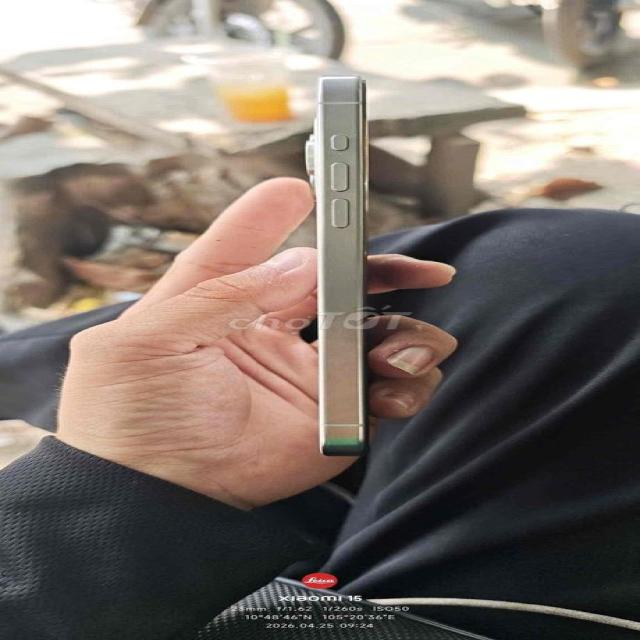gen_15: (284, 64, 424, 466)
